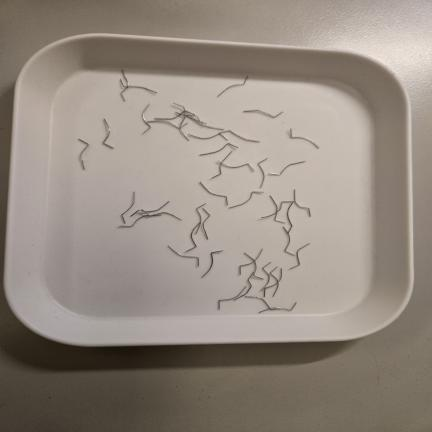probe: (199, 181, 228, 205), (217, 76, 248, 97), (168, 245, 199, 266), (229, 191, 264, 208), (202, 250, 223, 277), (290, 129, 319, 148), (268, 161, 305, 175), (121, 191, 135, 223), (78, 139, 89, 170), (102, 119, 113, 149), (243, 110, 283, 118)
